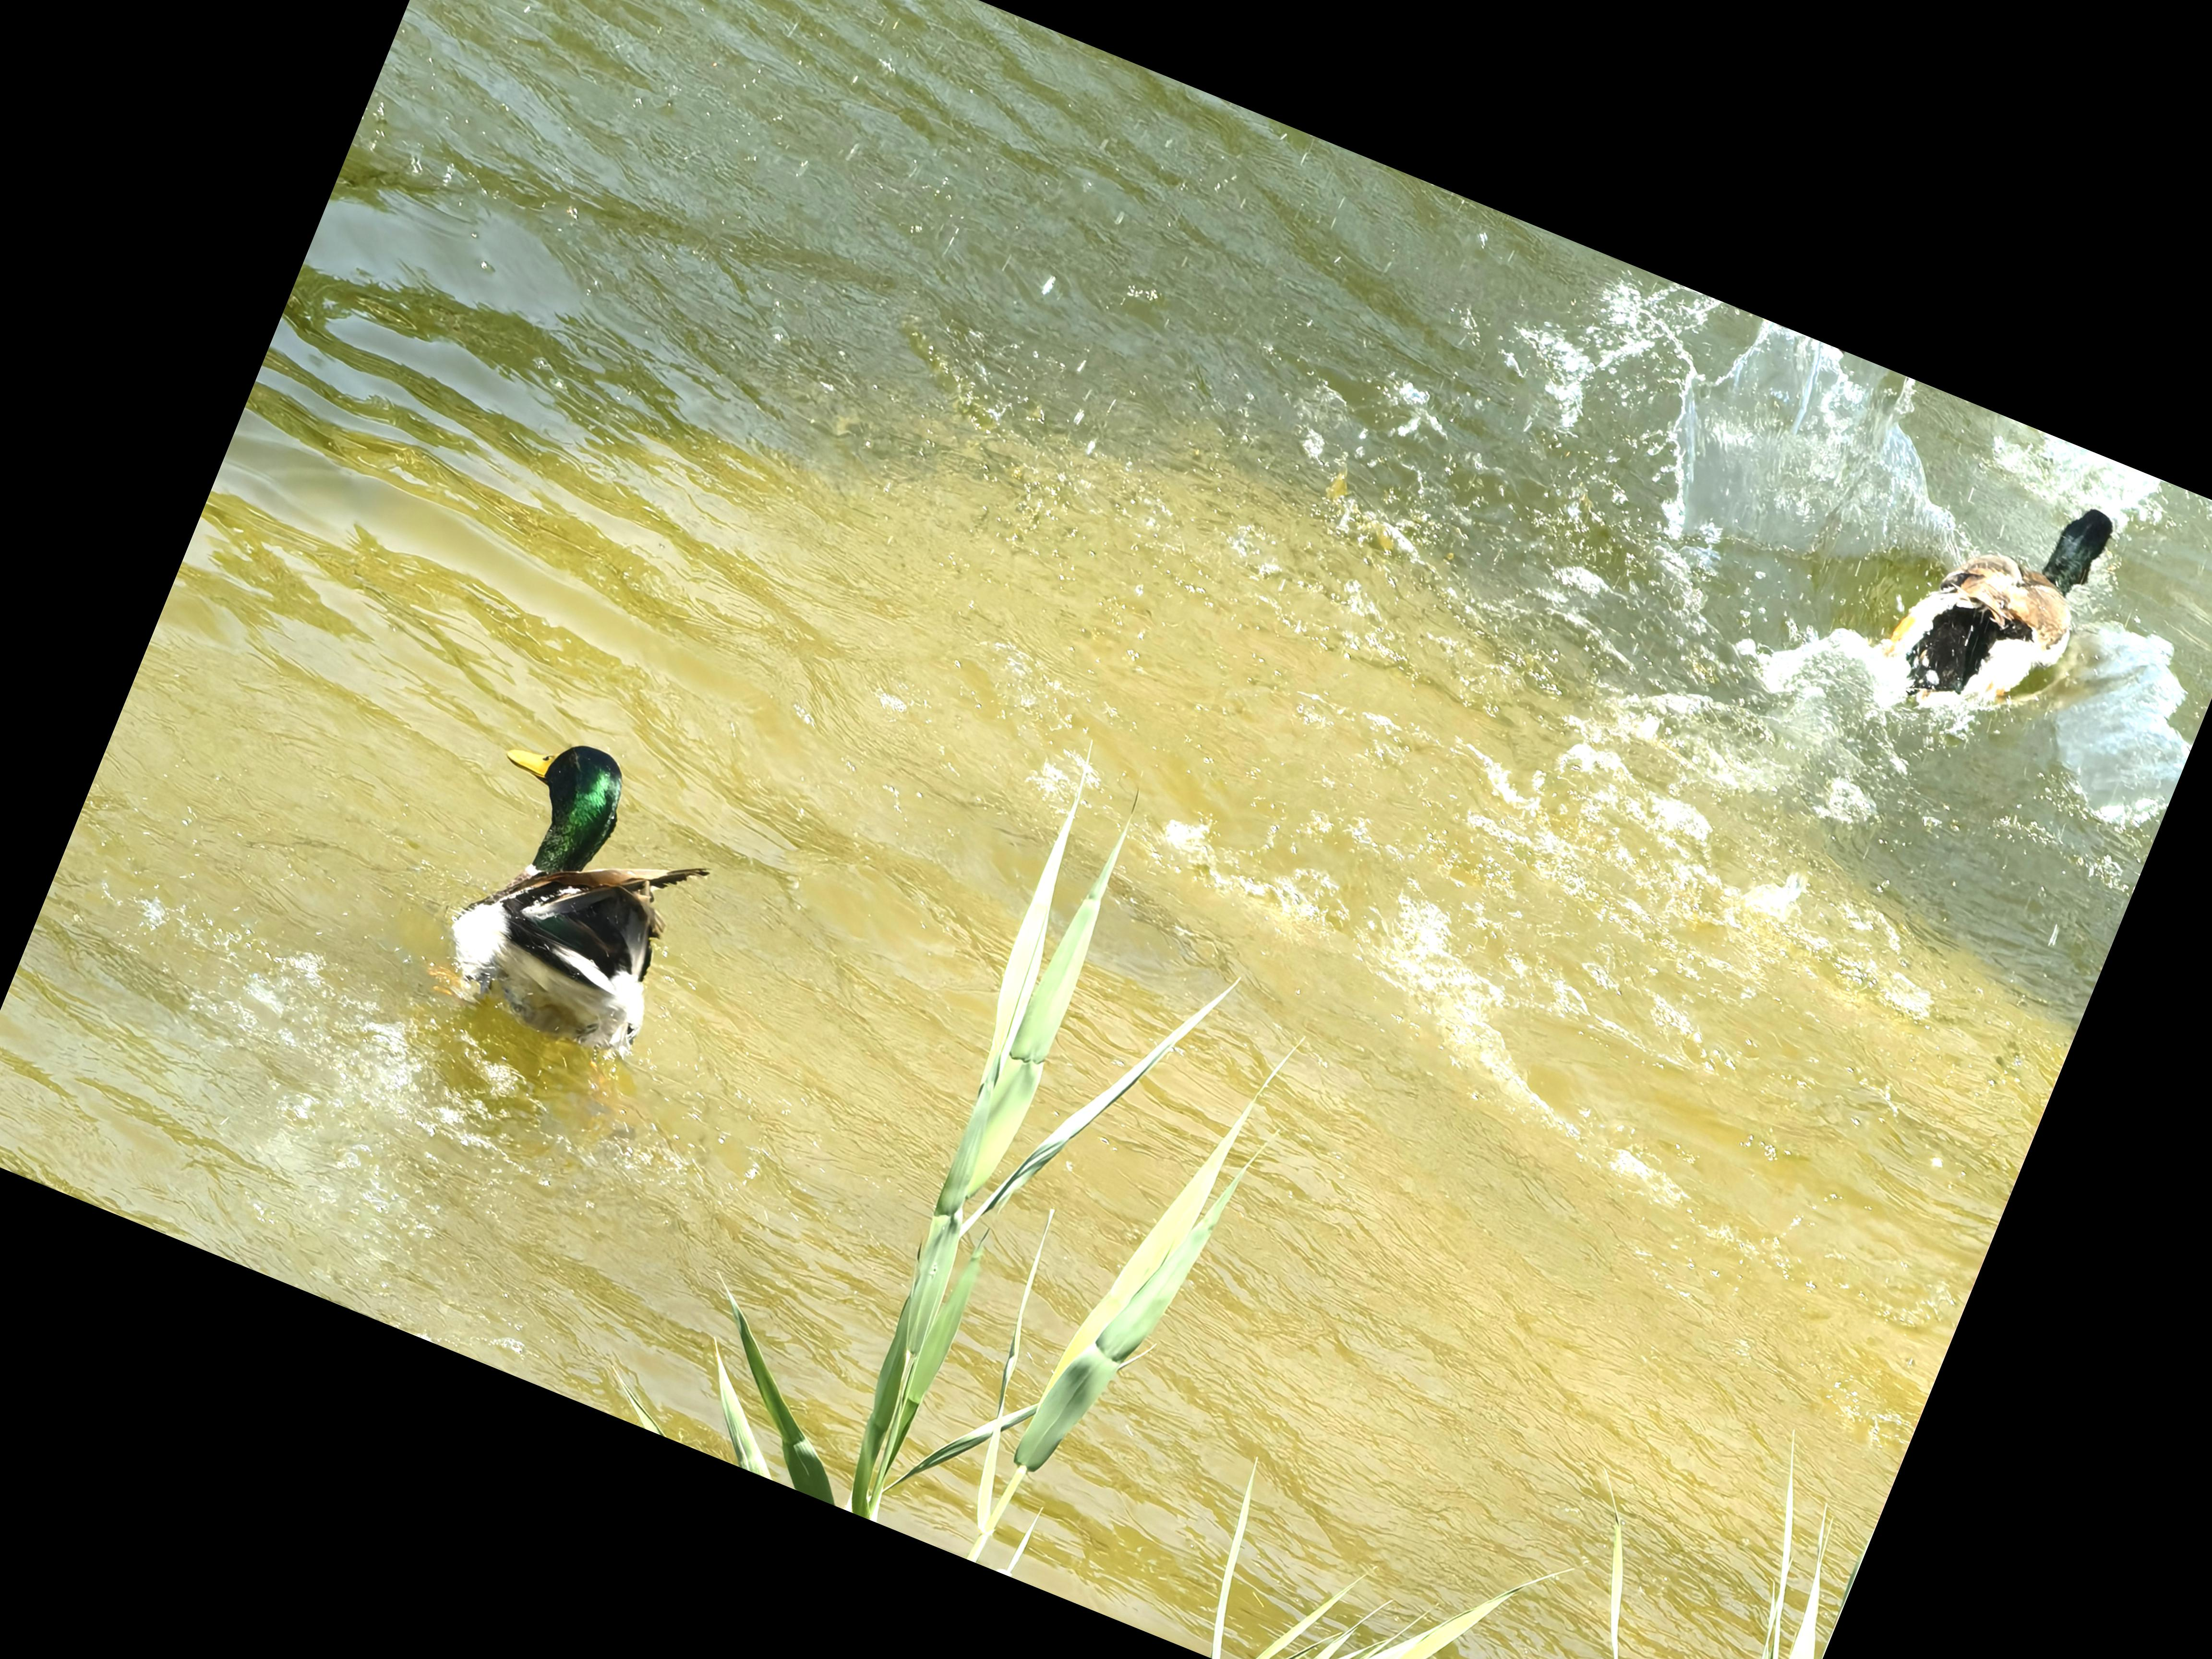duck: (352, 666, 794, 1121), (1831, 425, 2165, 791)
